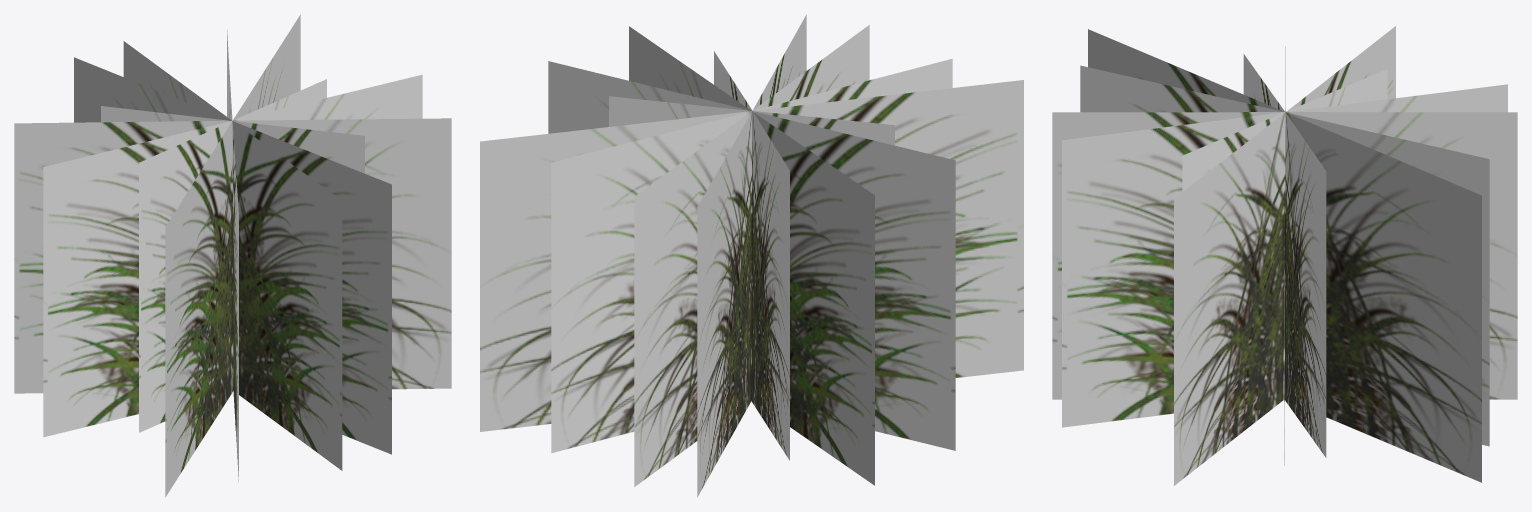
The model's file is Model_Plant_10.fbx.
3 renders of one model, left to right at view 1: azimuth 30°, elevation 25°; view 2: azimuth 150°, elevation 25°; view 3: azimuth 270°, elevation 25°, orthographic. The views are drawn at different scales.
Visible parts, largest first — view 1: DGrass3; view 2: DGrass3; view 3: DGrass3.
Boxes of the visible parts, left/top/right/bottom form: DGrass3: left=14, top=14, right=451, bottom=497; DGrass3: left=480, top=14, right=1023, bottom=497; DGrass3: left=1052, top=26, right=1517, bottom=485.
Size of the model in its own units: 80.62 by 54.92 by 80.62.
